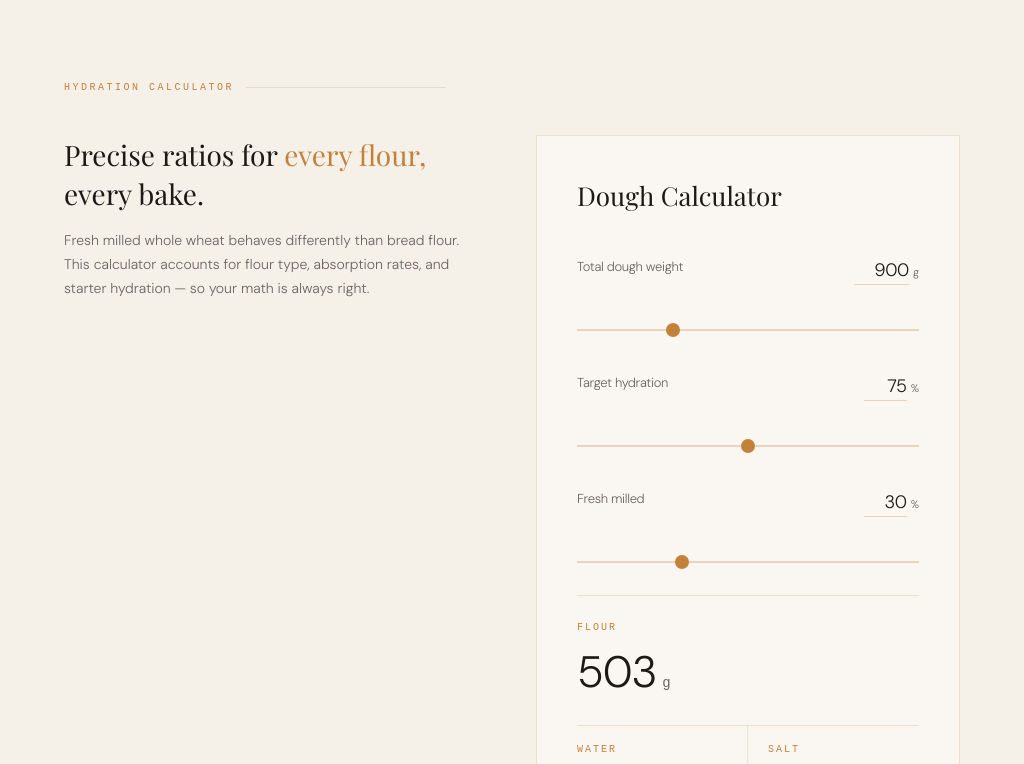
Test case: CalculatorPage › updates output when number input value changes
Replace the text in the number field named "target hydration" with "80": point(885, 387) x1=864 y1=373 x2=907 y2=401
(page scrolled)
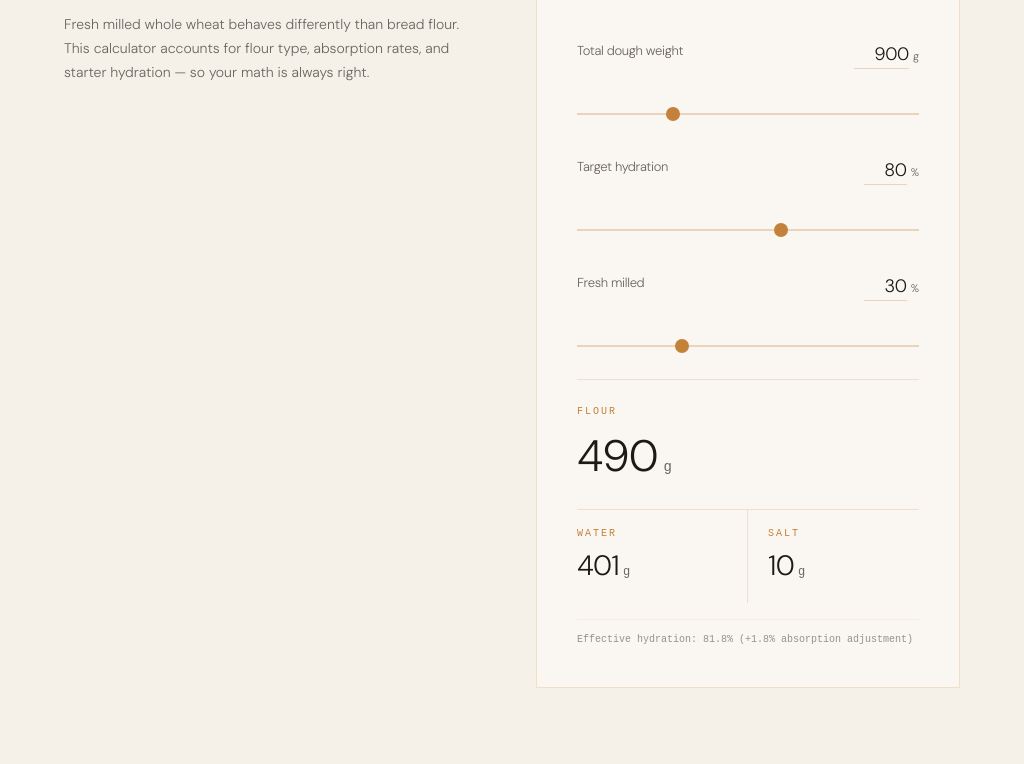
expect the text "Effective hydration: 81.8% (+1.8% absorption adjustment)" is shown: met, box x1=577 y1=619 x2=919 y2=647
